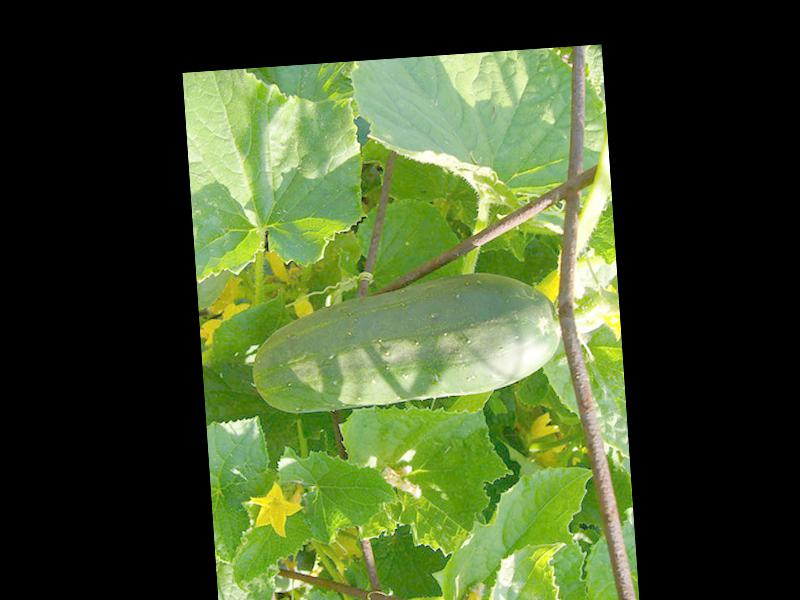Cucumber: (246, 264, 564, 416)
